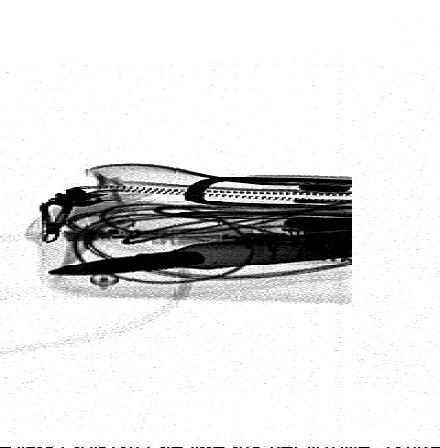Bullet: (41, 231, 356, 276)
